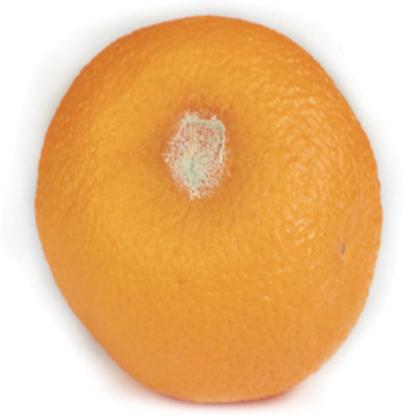rotten: (37, 14, 387, 408)
